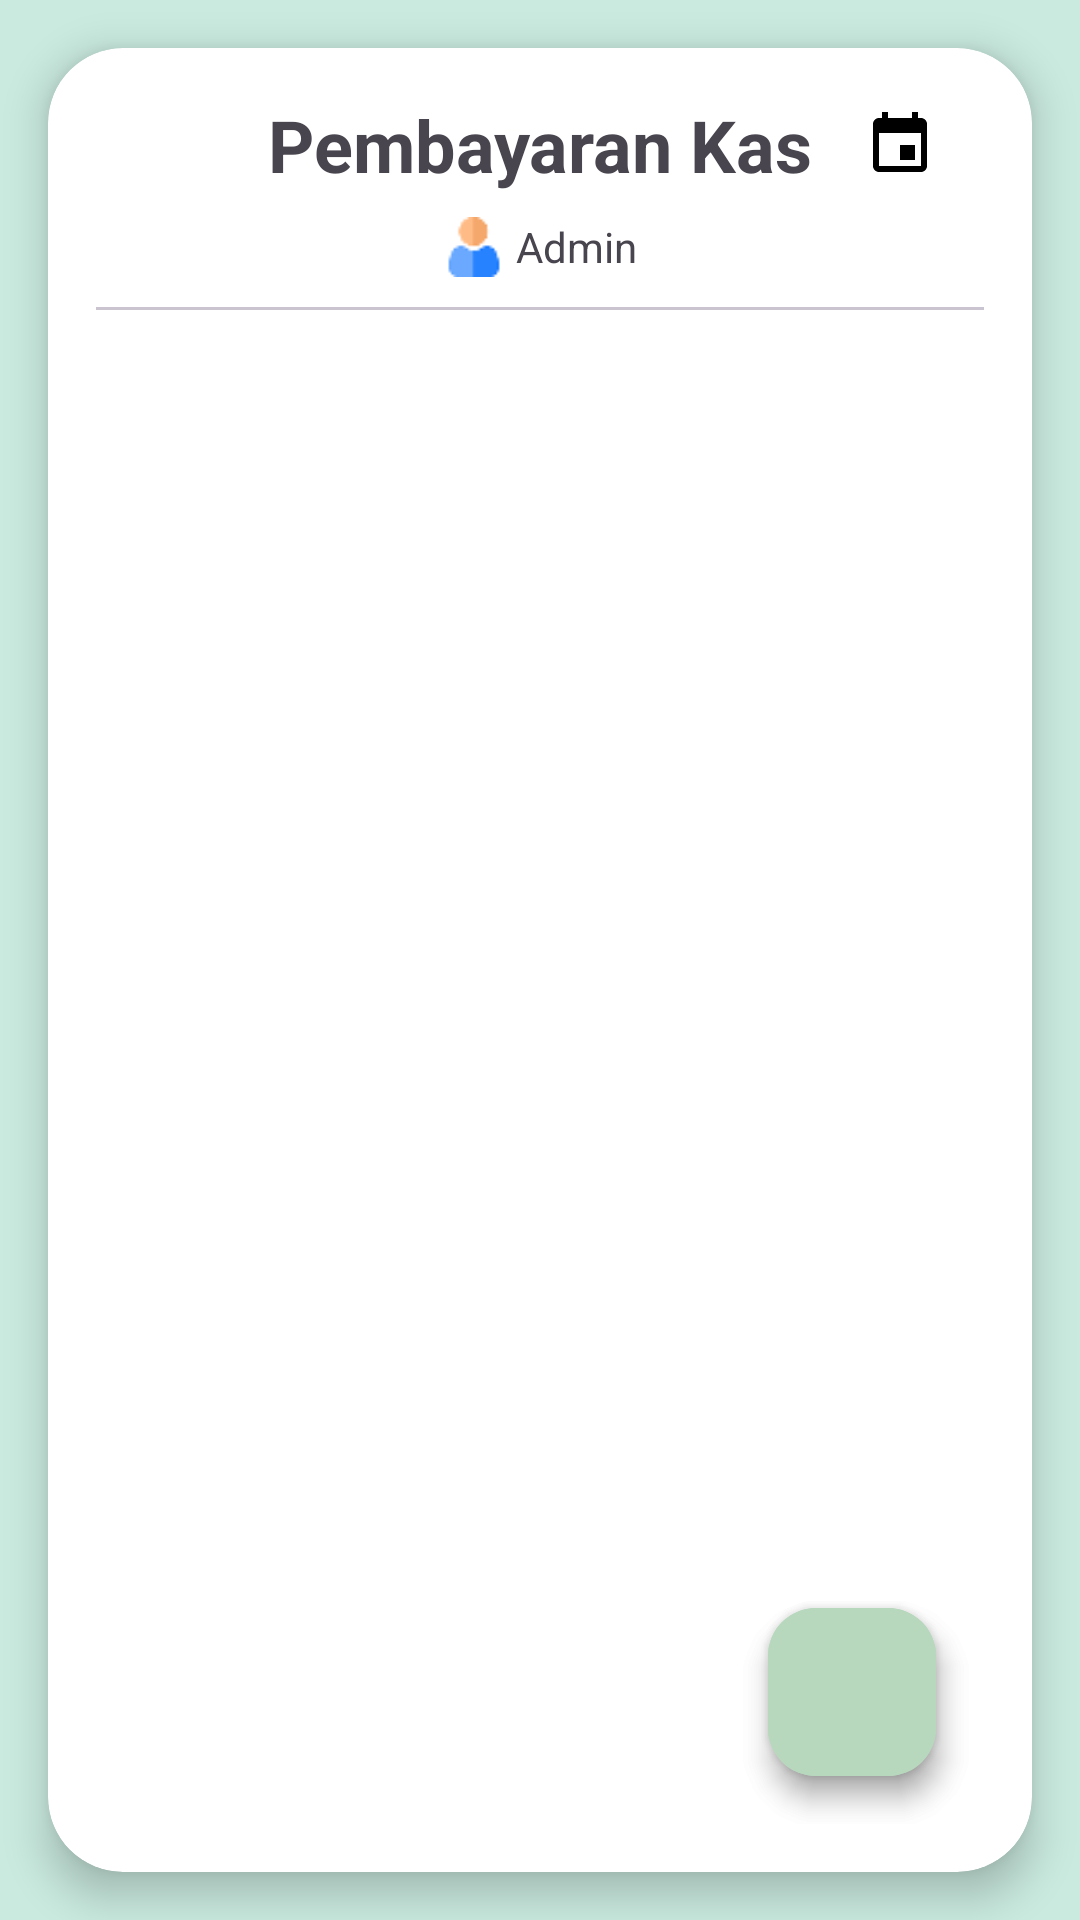

Named icons in this screenshot (1080*1920) and their centers, [x,y]:
calendar: [900,142]
